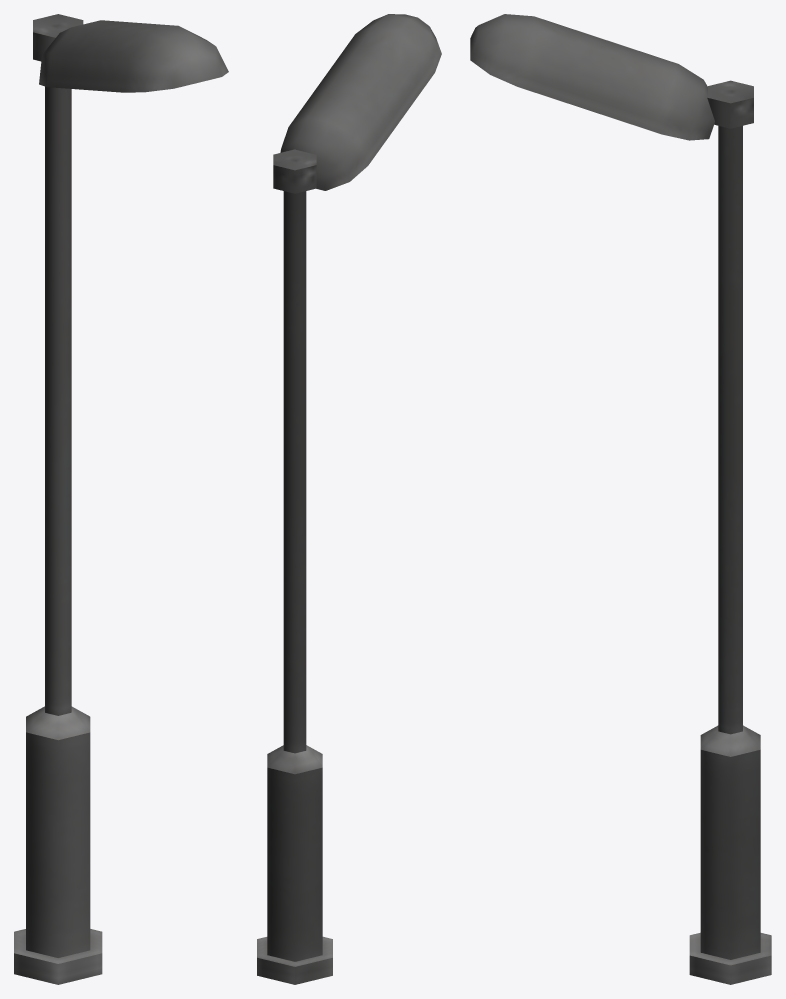
Rendered from Light_Pole.FBX.
3 views of the same model, side by side, from view 1: azimuth 30°, elevation 25°; view 2: azimuth 150°, elevation 25°; view 3: azimuth 270°, elevation 25° (orthographic). The views are drawn at different scales.
Parts seen in each view (by area): view 1: Light_Pole; view 2: Light_Pole; view 3: Light_Pole.
Part boxes in pixels (x1=…): Light_Pole: x1=14, y1=14, x2=228, y2=984; Light_Pole: x1=257, y1=14, x2=441, y2=984; Light_Pole: x1=470, y1=14, x2=771, y2=984.
Size of the model in its own units: 85.96 by 866 by 251.
